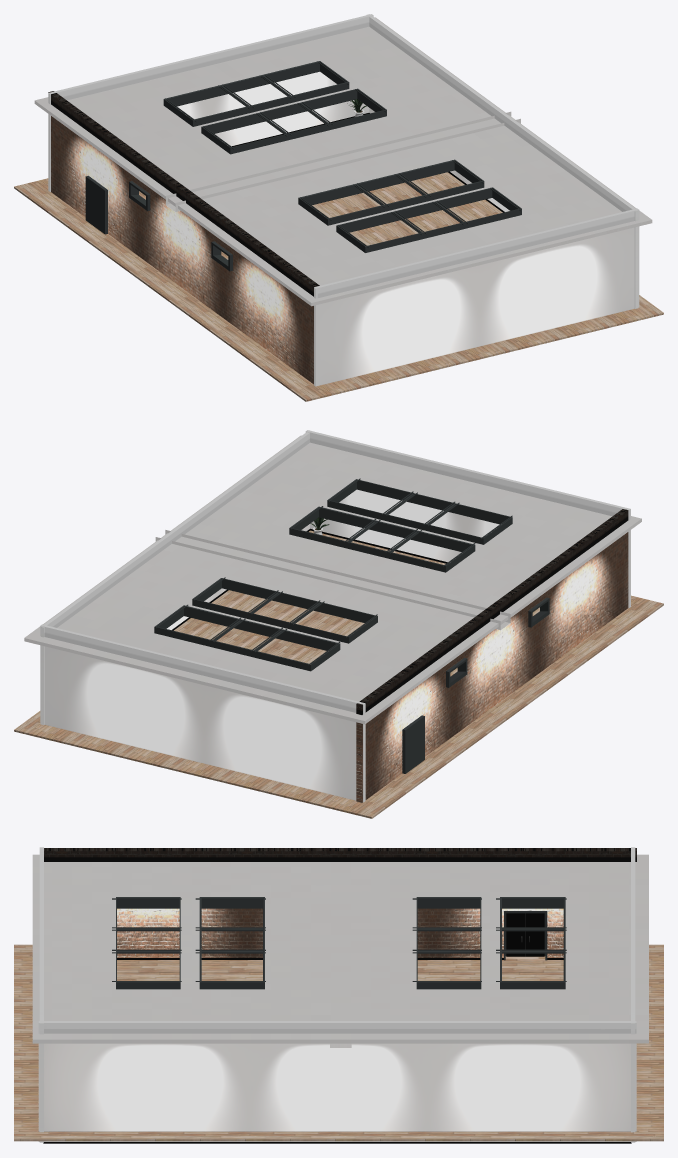
Rendered from artgallery_7.glb.
3 renders of one model, top to bottom at view 1: azimuth 30°, elevation 25°; view 2: azimuth 150°, elevation 25°; view 3: azimuth 270°, elevation 25°, orthographic. The views are drawn at different scales.
Parts seen in each view (by area): view 1: Plane, Plane.001, Plane.003, Plane.012, Cube.018, Cube.028, Cube.029, Door trim; view 2: Plane, Plane.001, Plane.003, Plane.012, Cube.018, Cube.028, Cube.029, Door trim; view 3: Plane, Plane.001, Plane.012, Plane.003, Cube.028, Cube.018, Wall trim, Cube.
Part boxes in pixels (x1=…): Plane: x1=34, y1=17, x2=652, y2=306; Plane.001: x1=48, y1=14, x2=639, y2=386; Plane.003: x1=48, y1=91, x2=319, y2=384; Plane.012: x1=14, y1=172, x2=663, y2=401; Cube.018: x1=298, y1=159, x2=521, y2=252; Cube.028: x1=163, y1=61, x2=386, y2=154; Cube.029: x1=166, y1=111, x2=520, y2=211; Door trim: x1=85, y1=175, x2=107, y2=234; Plane: x1=24, y1=435, x2=641, y2=724; Plane.001: x1=40, y1=430, x2=630, y2=802; Plane.003: x1=356, y1=509, x2=628, y2=802; Plane.012: x1=14, y1=530, x2=663, y2=818; Cube.018: x1=289, y1=478, x2=512, y2=572; Cube.028: x1=154, y1=577, x2=377, y2=671; Cube.029: x1=155, y1=530, x2=510, y2=629; Door trim: x1=402, y1=715, x2=424, y2=773; Plane: x1=32, y1=854, x2=648, y2=1043; Plane.001: x1=38, y1=847, x2=636, y2=1142; Plane.012: x1=14, y1=944, x2=663, y2=1141; Plane.003: x1=44, y1=848, x2=636, y2=957; Cube.028: x1=412, y1=897, x2=566, y2=989; Cube.018: x1=112, y1=897, x2=265, y2=989; Wall trim: x1=43, y1=958, x2=631, y2=1143; Cube: x1=506, y1=913, x2=544, y2=956.
Size of the model in its own units: 22.12 by 6.49 by 31.22.
Materials: 16 (6 with a texture image).
